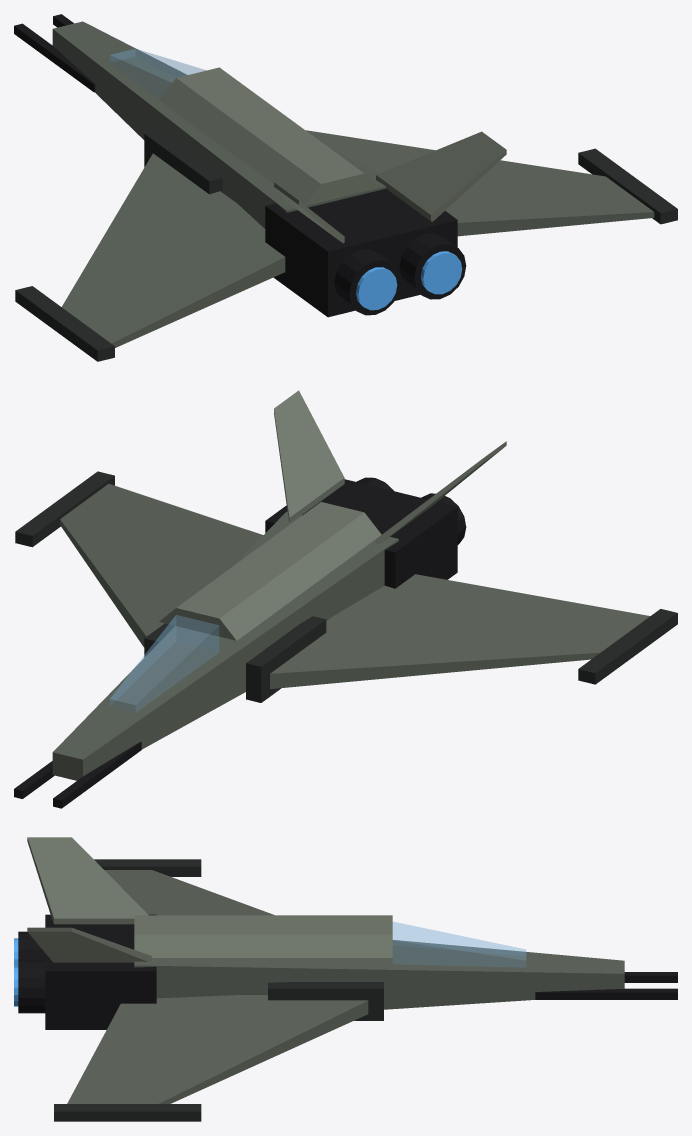
The model's file is ship_XS_FIGHTER.obj.
3 renders of one model, top to bottom at view 1: azimuth 30°, elevation 25°; view 2: azimuth 150°, elevation 25°; view 3: azimuth 270°, elevation 25°, orthographic. The views are drawn at different scales.
Parts seen in each view (by area): view 1: XS_FIGHTER_Hull-col, XS_FIGHTER_Armor, XS_FIGHTER_Engines, XS_FIGHTER_Trim, XS_FIGHTER_EngineGlow, XS_FIGHTER_Glass-col; view 2: XS_FIGHTER_Hull-col, XS_FIGHTER_Armor, XS_FIGHTER_Engines, XS_FIGHTER_Trim, XS_FIGHTER_Glass-col; view 3: XS_FIGHTER_Hull-col, XS_FIGHTER_Armor, XS_FIGHTER_Engines, XS_FIGHTER_Trim, XS_FIGHTER_Glass-col.
Part boxes in pixels (x1,y1,x2,y2): XS_FIGHTER_Hull-col: (52, 21, 654, 347); XS_FIGHTER_Armor: (159, 67, 506, 243); XS_FIGHTER_Engines: (14, 14, 466, 317); XS_FIGHTER_Trim: (15, 130, 677, 361); XS_FIGHTER_EngineGlow: (356, 251, 462, 310); XS_FIGHTER_Glass-col: (110, 49, 205, 98); XS_FIGHTER_Hull-col: (52, 484, 650, 780); XS_FIGHTER_Armor: (159, 390, 506, 640); XS_FIGHTER_Engines: (14, 477, 466, 808); XS_FIGHTER_Trim: (15, 471, 677, 702); XS_FIGHTER_Glass-col: (110, 615, 218, 712); XS_FIGHTER_Hull-col: (67, 870, 624, 1103); XS_FIGHTER_Armor: (27, 837, 392, 962); XS_FIGHTER_Engines: (18, 914, 677, 1029); XS_FIGHTER_Trim: (54, 859, 383, 1121); XS_FIGHTER_Glass-col: (393, 922, 525, 967).
Size of the model in its own units: 13.4 by 2.95 by 14.9.
